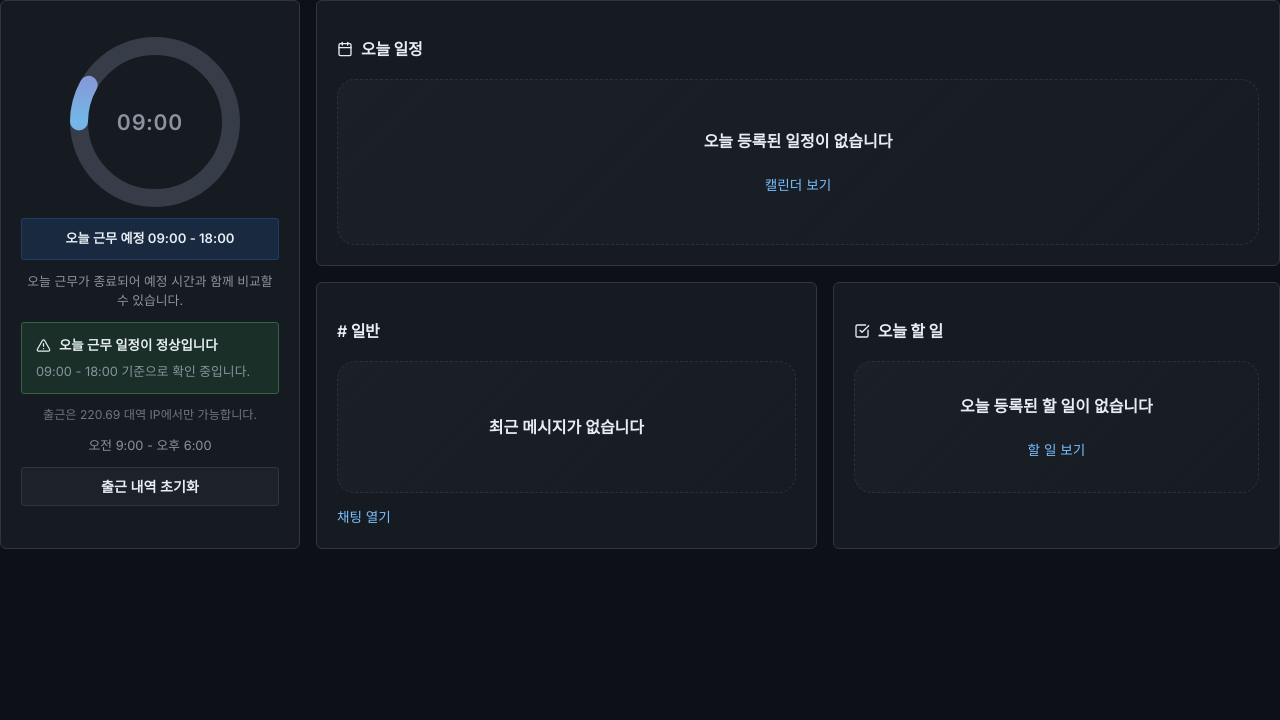
Test: Dashboard 페이지 › 퇴근 완료 상태에서 출근 내역 초기화 버튼 클릭 시 확인 모달이 열린다
The width and height of the screenshot is (1280, 720).
Click the button "출근 내역 초기화" at (150, 487), box [21,467,279,506]
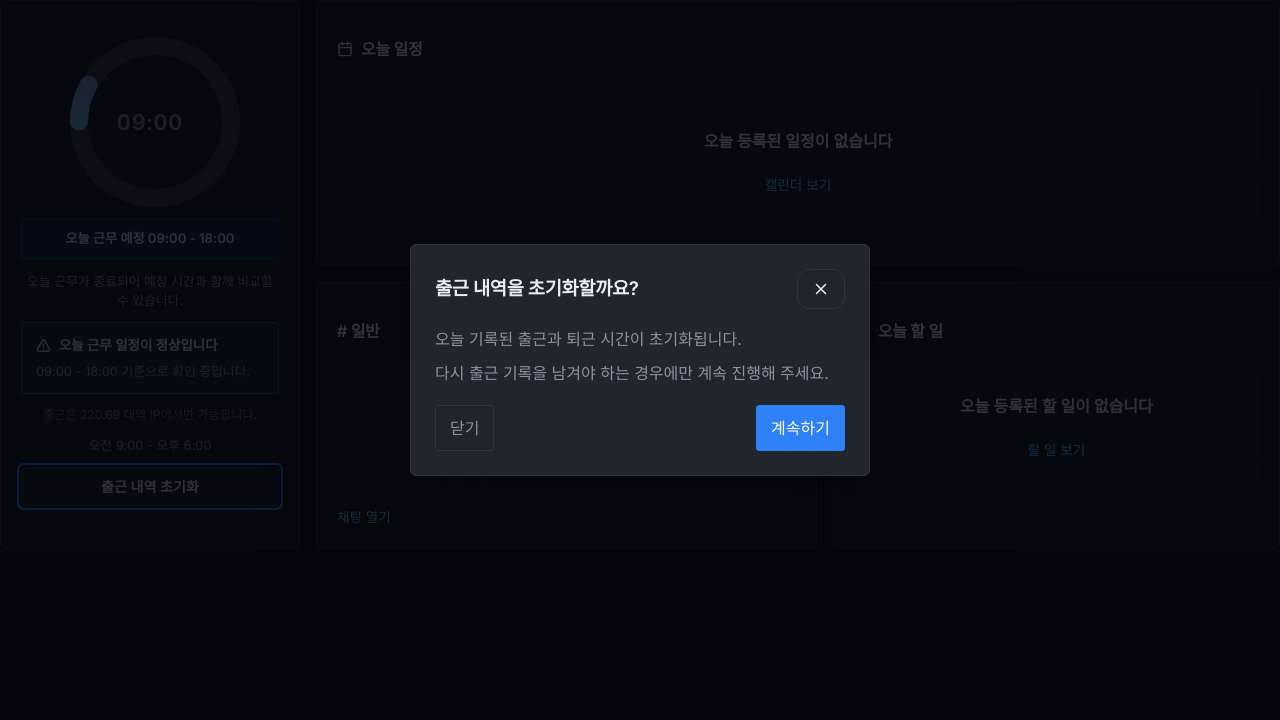
Expected: the heading "출근 내역을 초기화할까요?" is shown, [435,275,639,304]
